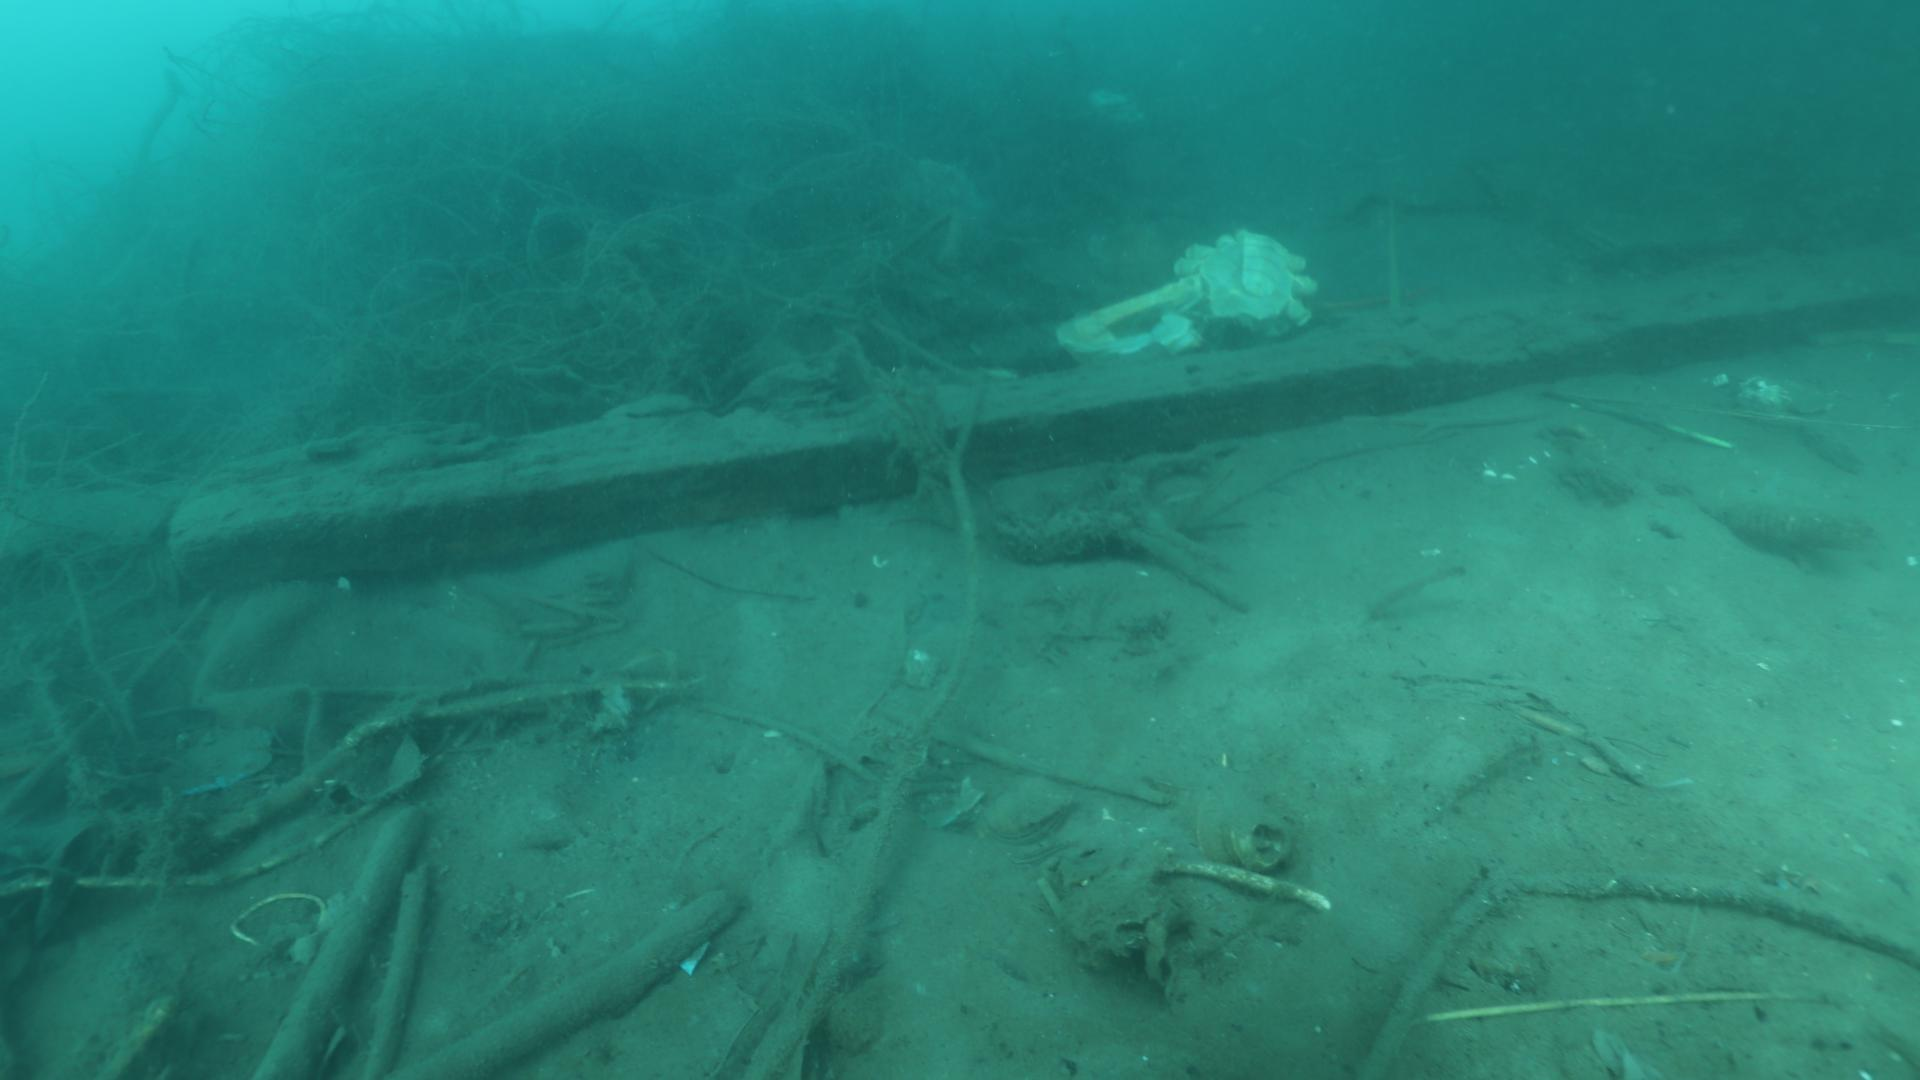wood: (166, 235, 1920, 595)
